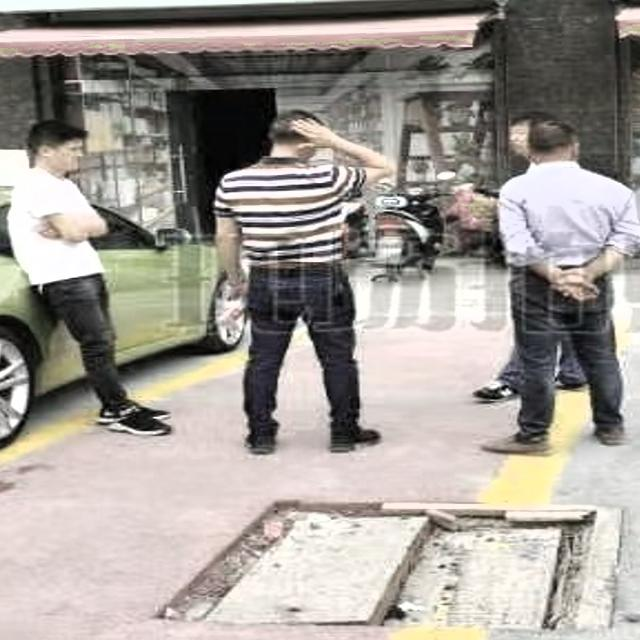circle: (175, 502, 621, 636)
